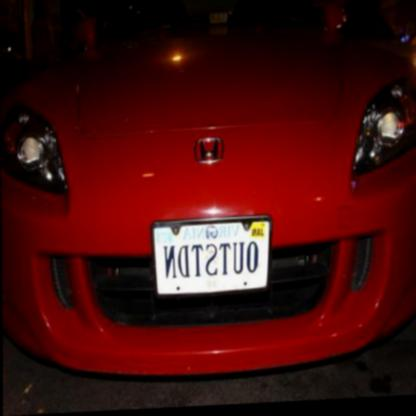License_Plate: (150, 214, 273, 299)
